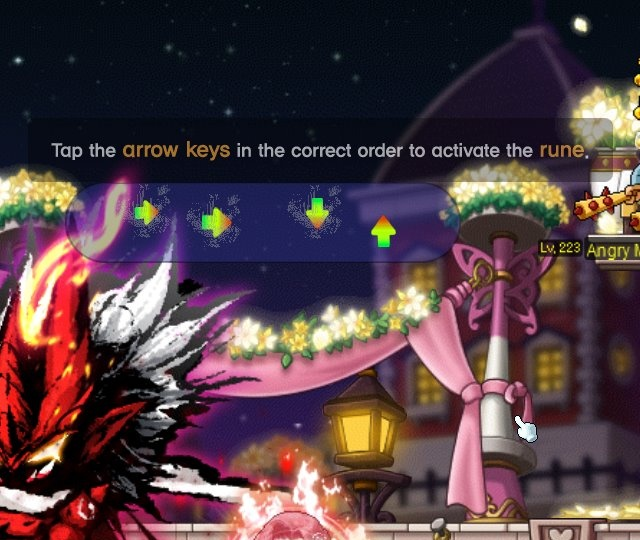down: (301, 193, 339, 235)
right: (196, 201, 238, 243), (127, 195, 166, 230)
up: (364, 210, 406, 254)
